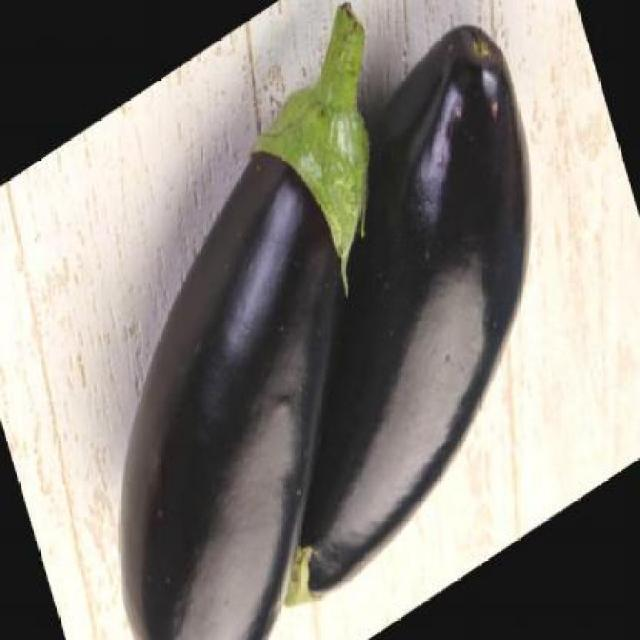eggplant: (9, 0, 506, 638), (168, 1, 610, 622)
